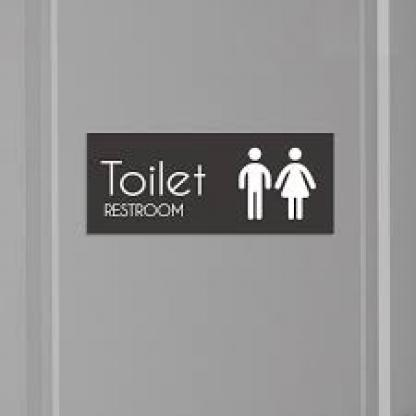toilet: (236, 140, 320, 222)
